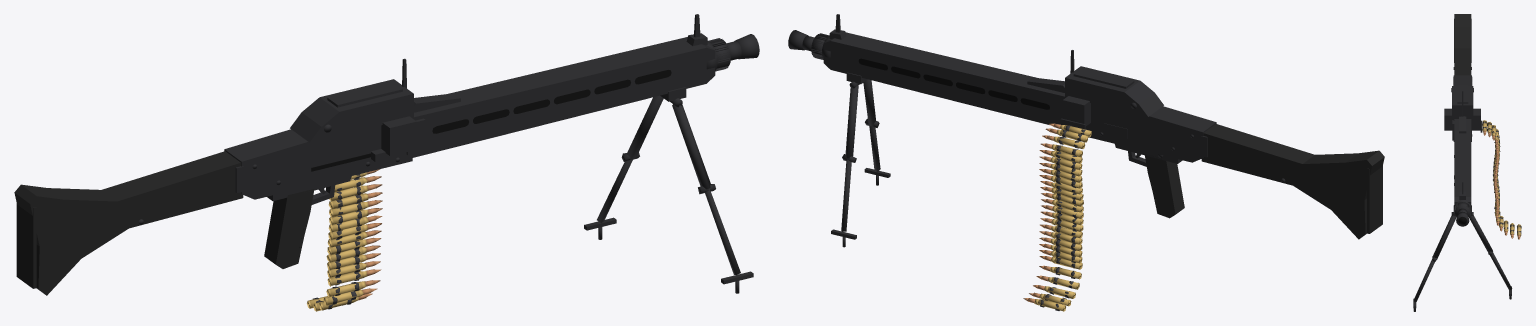
File: lmg02.glb
3 views of the same model, side by side, from view 1: azimuth 30°, elevation 25°; view 2: azimuth 150°, elevation 25°; view 3: azimuth 270°, elevation 25° (orthographic). The views are drawn at different scales.
Visible parts, largest first — view 1: K_BarrelJacket, K_Stock, K_Receiver, K_BeltCases, K_FeedCover, K_BipodLegs, K_PistolGrip, K_ButtCap, K_JacketVents, K_FeedTray, K_BeltLinks, K_BeltBullets (+2 smaller); view 2: K_BarrelJacket, K_Stock, K_BeltCases, K_Receiver, K_FeedCover, K_BipodLegs, K_PistolGrip, K_BeltLinks, K_BeltBullets, K_ButtCap, K_JacketVents, K_FeedTray (+1 smaller); view 3: K_BarrelJacket, K_Stock, K_BipodLegs, K_BeltCases, K_FeedCover, K_FeedTray, K_BeltBullets, K_BeltLinks, K_Receiver, K_FeedCoverRib, K_RearSightBase, K_MuzzleRing (+1 smaller).
Boxes of the visible parts, x1,y1,x2,y2 form: K_BarrelJacket: (412,37,715,157); K_Stock: (14,151,243,295); K_Receiver: (224,117,412,199); K_BeltCases: (307,172,368,311); K_FeedCover: (290,79,413,142); K_BipodLegs: (597,95,740,274); K_PistolGrip: (264,189,314,268); K_ButtCap: (16,203,36,288); K_JacketVents: (436,70,667,133); K_FeedTray: (381,116,416,155); K_BeltLinks: (313,174,362,310); K_BeltBullets: (358,169,382,300); K_BarrelJacket: (823,32,1065,124); K_Stock: (1201,124,1384,239); K_BeltCases: (1034,125,1091,311); K_Receiver: (1066,97,1216,162); K_FeedCover: (1065,66,1163,116); K_BipodLegs: (841,79,880,231); K_PistolGrip: (1144,154,1184,218); K_BeltLinks: (1040,125,1086,310); K_BeltBullets: (1023,123,1060,303); K_ButtCap: (1367,166,1382,233); K_JacketVents: (862,59,1047,109); K_FeedTray: (1062,96,1090,126); K_BarrelJacket: (1454,119,1471,216); K_Stock: (1454,14,1471,75); K_BipodLegs: (1413,215,1512,302); K_BeltCases: (1482,120,1521,235); K_FeedCover: (1452,86,1473,117); K_FeedTray: (1444,108,1480,130); K_BeltBullets: (1483,130,1520,239); K_BeltLinks: (1482,121,1521,234); K_Receiver: (1453,75,1471,141); K_FeedCoverRib: (1457,85,1468,103); K_RearSightBase: (1459,116,1466,133); K_MuzzleRing: (1455,202,1470,216).
Bounding box in the file's own units: 1.23 × 0.4454 × 0.2939.
